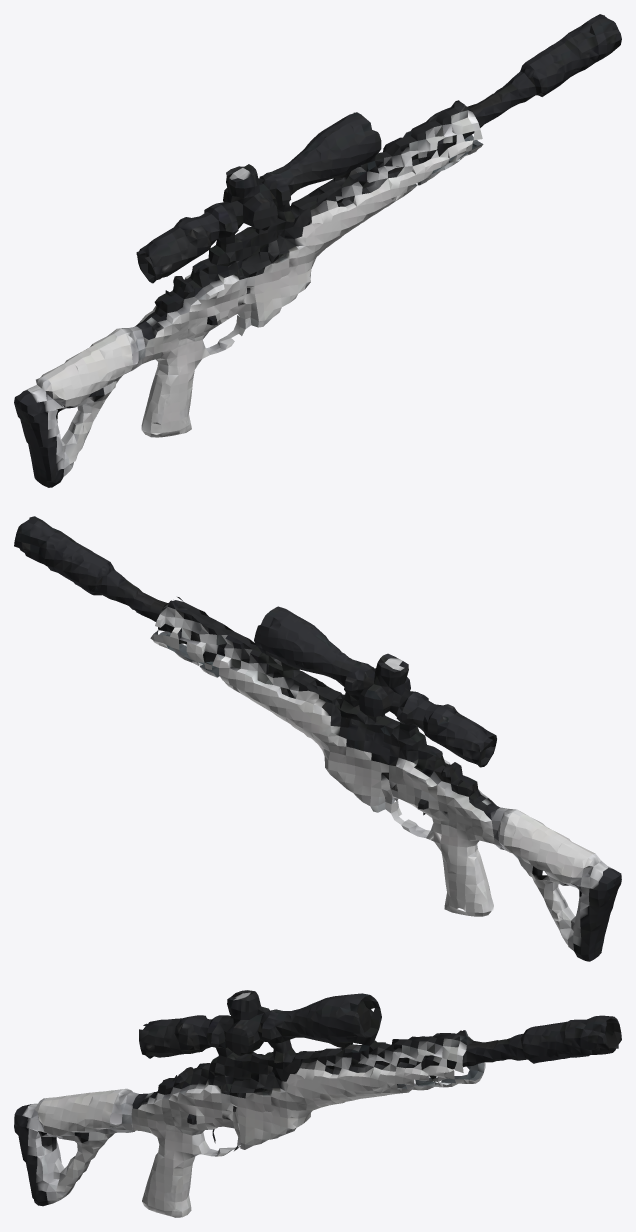
File: masdim-sniper.glb
3 views of the same model, one above another, from view 1: azimuth 30°, elevation 25°; view 2: azimuth 150°, elevation 25°; view 3: azimuth 330°, elevation 25° (orthographic). The views are drawn at different scales.
Parts seen in each view (by area): view 1: masdim-sniper; view 2: masdim-sniper; view 3: masdim-sniper.
Part boxes in pixels (left/top/right/bottom): masdim-sniper: left=14, top=14, right=621, bottom=487; masdim-sniper: left=14, top=516, right=621, bottom=961; masdim-sniper: left=14, top=990, right=621, bottom=1217.
Bounding box in the file's own units: 0.9776 × 0.4959 × 0.0878.
Materials: 1 (1 with a texture image).
